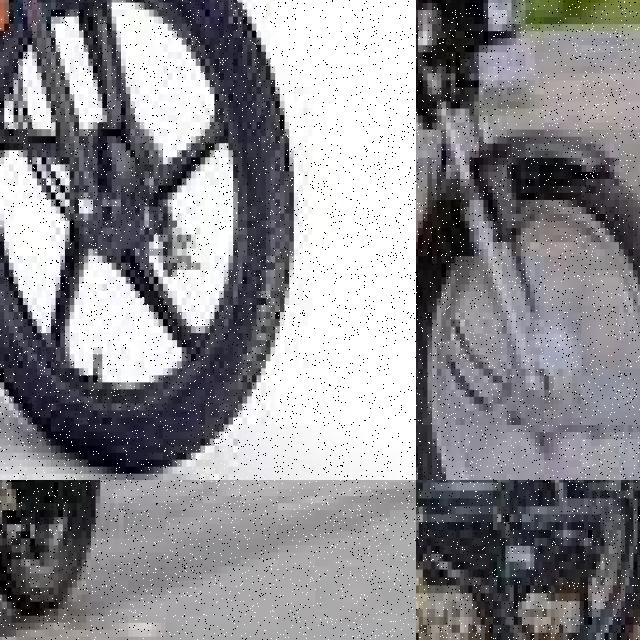bike: (0, 0, 308, 480), (416, 0, 640, 480), (416, 480, 640, 640), (0, 480, 133, 640)
